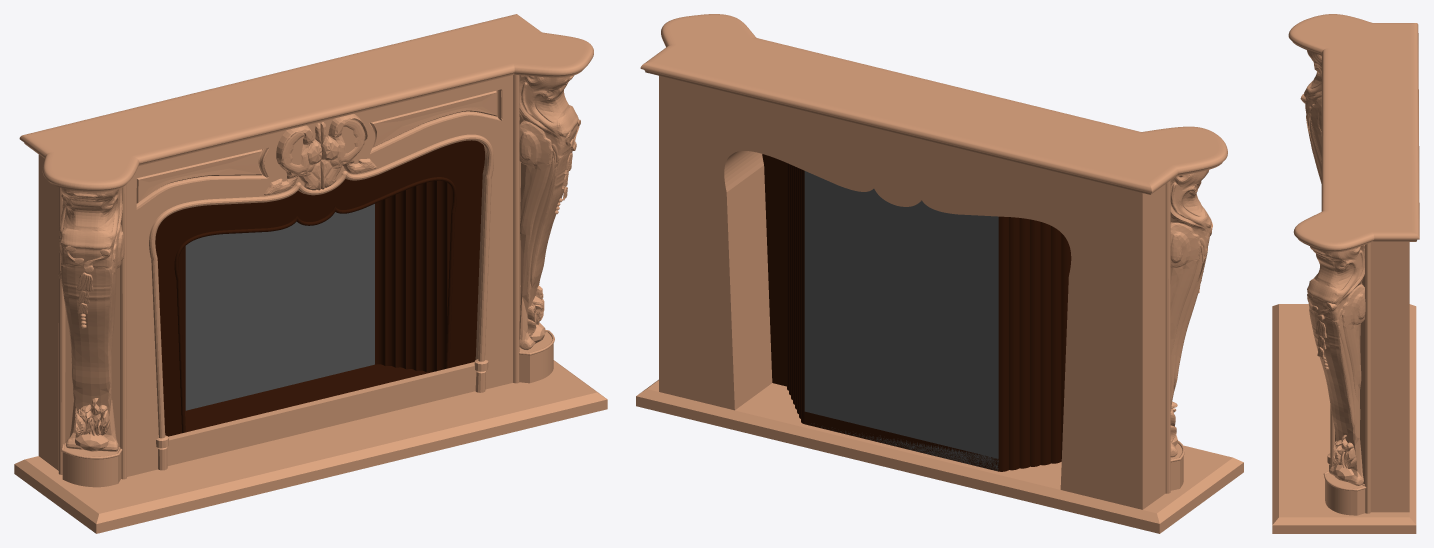
File: Fireplace1.FBX
3 renders of one model, left to right at view 1: azimuth 30°, elevation 25°; view 2: azimuth 150°, elevation 25°; view 3: azimuth 270°, elevation 25°, orthographic. The views are drawn at different scales.
Visible parts, largest first — view 1: Rectangle4, Line08, Line02, Rectangle0, Rectangle1, Line15, Line09, Rectangle3, Shape01, Shape02, Rectangle5, Line03 (+4 smaller); view 2: Line08, Rectangle4, Line02, Rectangle0, Line15, Rectangle1, Rectangle5, Shape02; view 3: Line02, Rectangle0, Line08, Line09, Shape02, Line15, Line01, Line13, Sphere10, Line14.
Part boxes in pixels (left/top/right/bottom): Rectangle4: left=178, top=180, right=452, bottom=410; Line08: left=38, top=75, right=520, bottom=476; Line02: left=19, top=14, right=593, bottom=192; Rectangle0: left=14, top=360, right=607, bottom=533; Rectangle1: left=155, top=140, right=484, bottom=436; Line15: left=58, top=188, right=124, bottom=451; Line09: left=519, top=75, right=578, bottom=349; Rectangle3: left=167, top=362, right=476, bottom=465; Shape01: left=149, top=134, right=493, bottom=470; Shape02: left=58, top=74, right=519, bottom=479; Rectangle5: left=185, top=364, right=430, bottom=432; Line03: left=264, top=114, right=376, bottom=195; Line08: left=659, top=76, right=1165, bottom=509; Rectangle4: left=787, top=163, right=1071, bottom=471; Line02: left=640, top=14, right=1227, bottom=194; Rectangle0: left=636, top=379, right=1243, bottom=533; Line15: left=1170, top=170, right=1211, bottom=457; Rectangle1: left=762, top=154, right=786, bottom=386; Rectangle5: left=787, top=383, right=998, bottom=471; Shape02: left=1165, top=180, right=1170, bottom=493; Line02: left=1288, top=14, right=1419, bottom=252; Rectangle0: left=1272, top=304, right=1416, bottom=533; Line08: left=1335, top=242, right=1409, bottom=512; Line09: left=1307, top=245, right=1365, bottom=485; Shape02: left=1330, top=243, right=1370, bottom=513; Line15: left=1303, top=50, right=1321, bottom=183; Line01: left=1325, top=473, right=1365, bottom=515; Line13: left=1332, top=435, right=1356, bottom=468; Sphere10: left=1333, top=464, right=1354, bottom=481; Line14: left=1307, top=293, right=1337, bottom=320.
Bounding box in the file's own units: 1511 × 896 × 404.
